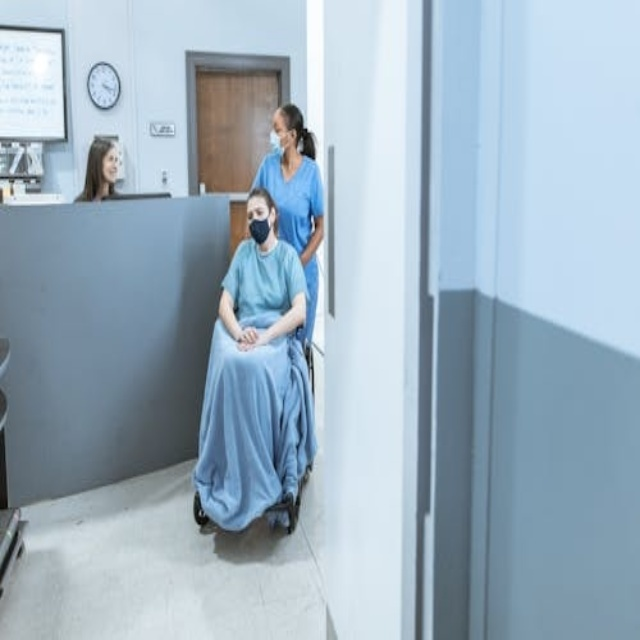Mascara: (246, 213, 271, 244), (268, 135, 291, 160)
Sin_gafas: (243, 204, 265, 217), (271, 115, 285, 135), (106, 148, 120, 165)
Sin_guantes: (234, 328, 265, 351)
Sin_mascara: (104, 165, 118, 181)
